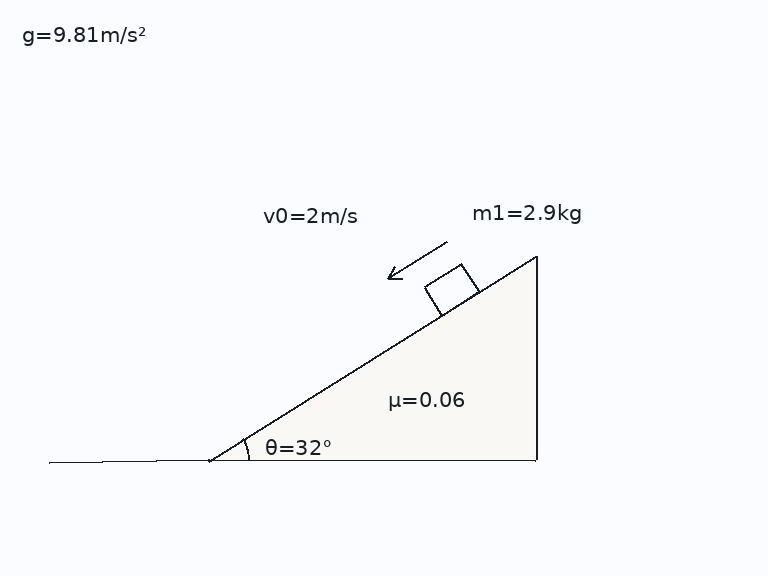block: (422, 262, 481, 317)
ramp: (207, 255, 537, 462)
